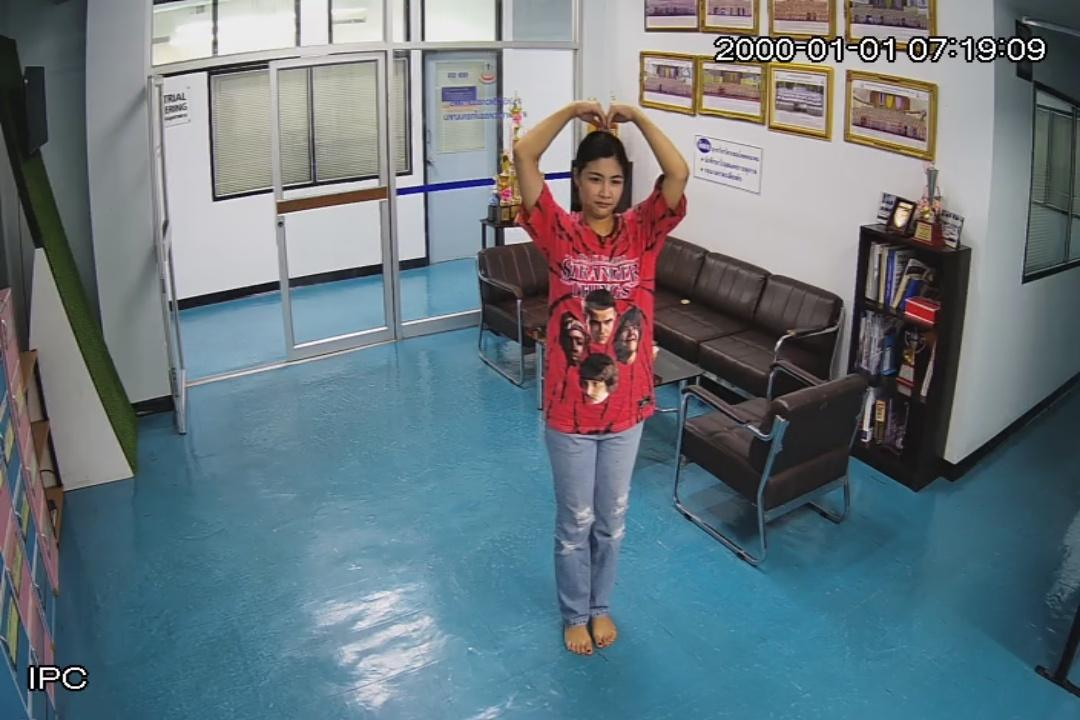normal: (519, 104, 687, 654)
